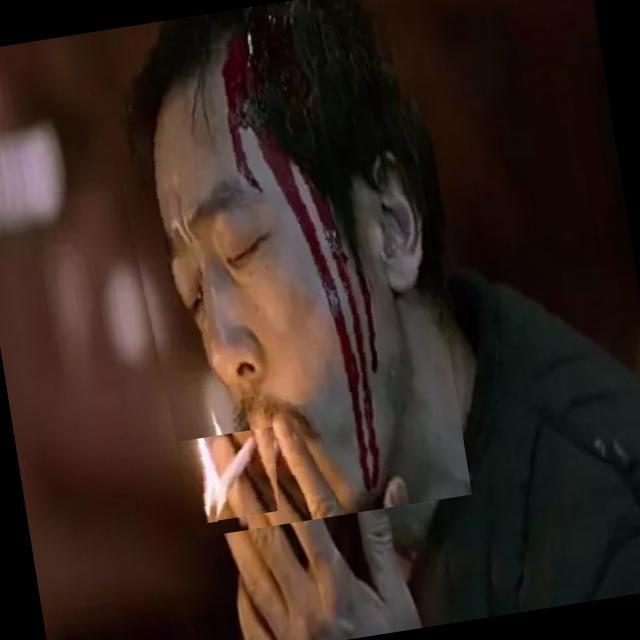cigarette: (178, 426, 286, 526)
